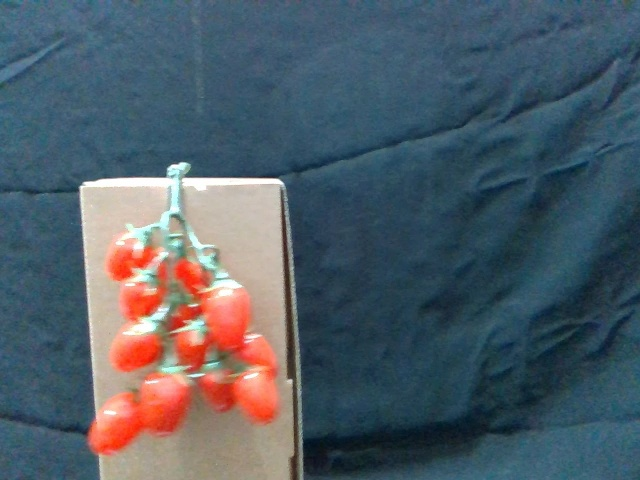tomato: (85, 391, 142, 454), (142, 371, 193, 434), (209, 273, 252, 347), (110, 317, 162, 373), (109, 226, 154, 283), (237, 368, 281, 424), (123, 268, 164, 318), (200, 360, 239, 411), (175, 319, 213, 371), (238, 330, 282, 370)
